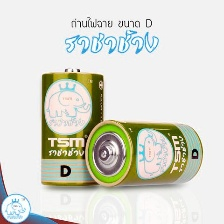battery: (82, 117, 205, 188), (36, 64, 106, 188)
